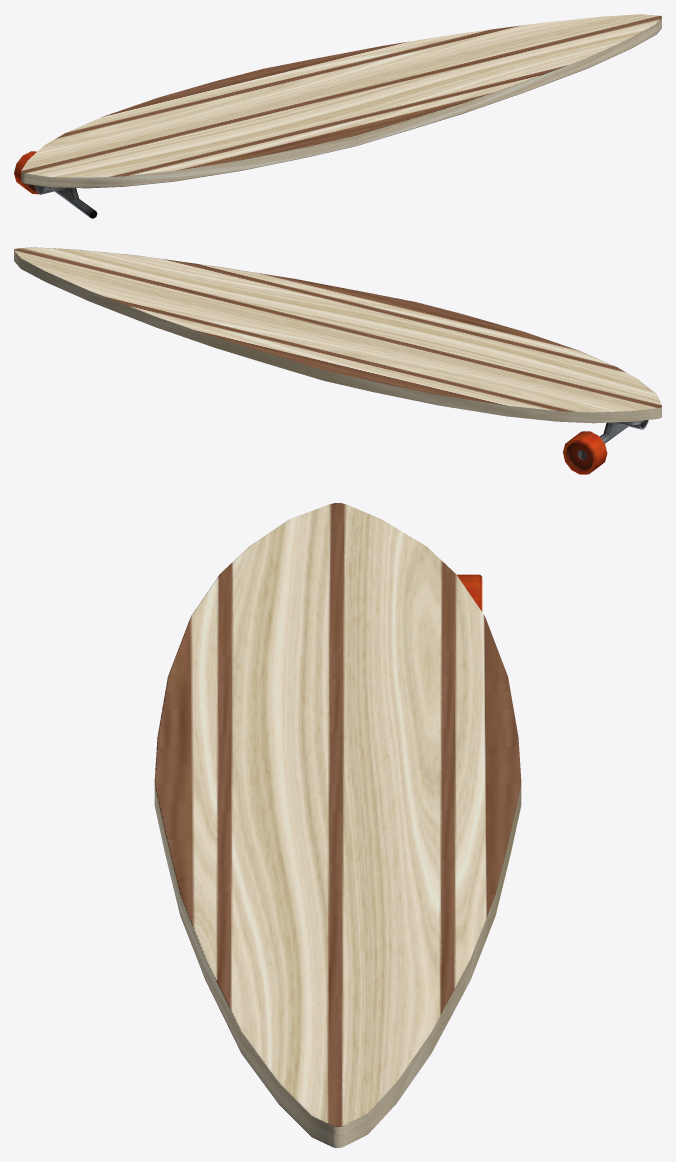
File: SkateBoard02.fbx
The picture shows the model from 3 angles, top to bottom: view 1: azimuth 30°, elevation 25°; view 2: azimuth 150°, elevation 25°; view 3: azimuth 270°, elevation 25°; orthographic projection. The views are drawn at different scales.
Visible parts, largest first — view 1: Board, BoardBase, Wheel1; view 2: Board, Wheel1, BoardBase; view 3: Board.
Boxes of the visible parts, box(x1,y1,x2,y2) form: Board: box(21, 14, 661, 188); BoardBase: box(34, 185, 97, 218); Wheel1: box(14, 151, 38, 194); Board: box(14, 247, 661, 423); Wheel1: box(563, 431, 607, 474); BoardBase: box(599, 420, 648, 443); Board: box(154, 503, 521, 1147).
Size of the model in its own units: 0.6962 by 0.0537 by 0.173.
